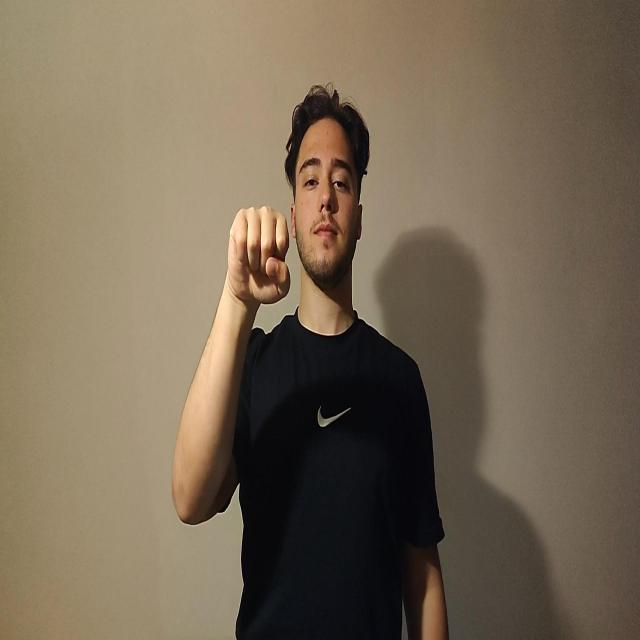yes: (226, 204, 291, 306)
